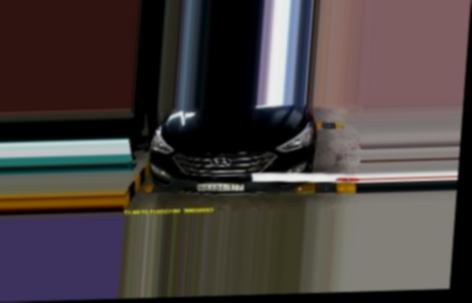License_Plate: (196, 179, 244, 197)
